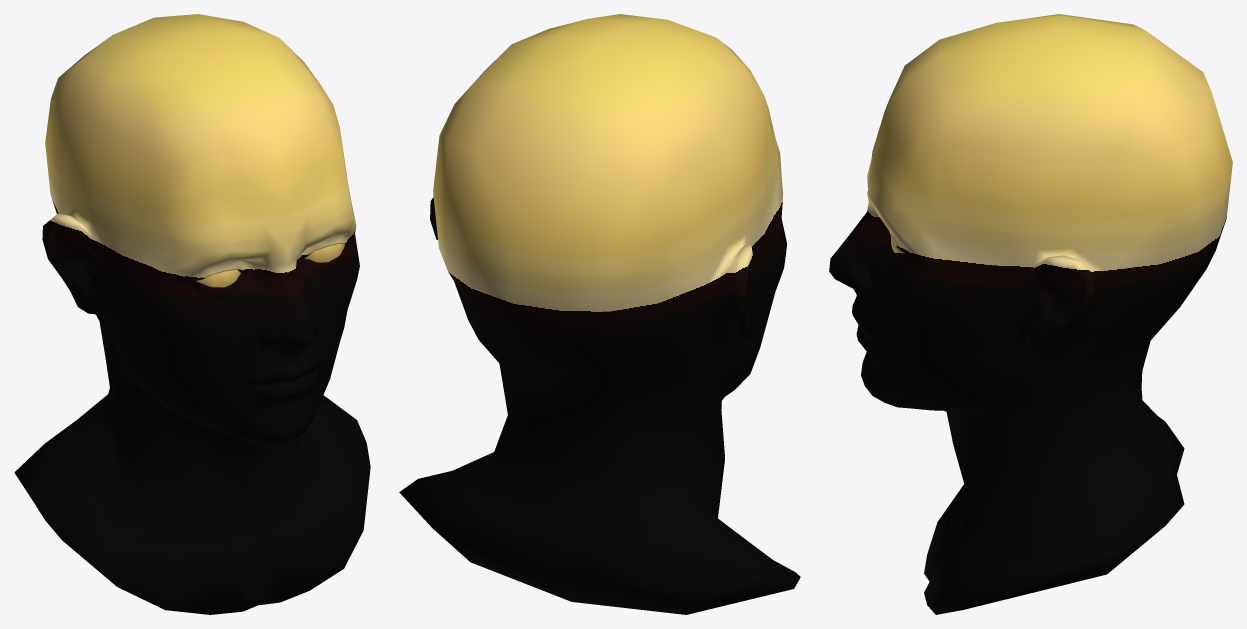
Rendered from head11.obj.
3 views of the same model, side by side, from view 1: azimuth 30°, elevation 25°; view 2: azimuth 150°, elevation 25°; view 3: azimuth 270°, elevation 25° (orthographic). The views are drawn at different scales.
Visible parts, largest first — view 1: Figure_1; view 2: Figure_1; view 3: Figure_1.
Boxes of the visible parts, box(x1,y1,x2,y2) form: Figure_1: box(14, 14, 370, 614); Figure_1: box(399, 14, 800, 614); Figure_1: box(829, 14, 1232, 614).
Size of the model in its own units: 22.21 by 34.36 by 22.75.
